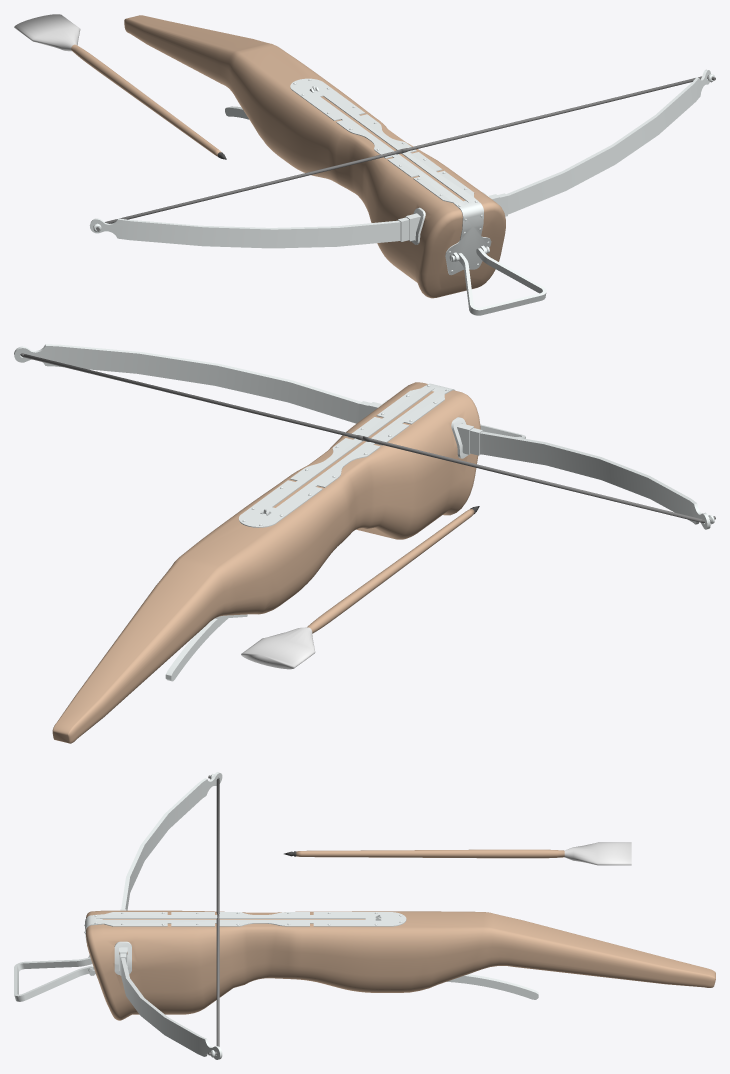
The model's file is kuss.fbx.
The picture shows the model from 3 angles, top to bottom: view 1: azimuth 30°, elevation 25°; view 2: azimuth 150°, elevation 25°; view 3: azimuth 270°, elevation 25°; orthographic projection. The views are drawn at different scales.
Parts seen in each view (by area): view 1: Compone158, Group13, Compone158.001, Compone158.002; view 2: Compone158, Group13, Compone158.001, Compone158.002; view 3: Compone158, Group13, Compone158.002, Compone158.001.
Part boxes in pixels (x1=…): Compone158: x1=89, y1=15, x2=715, y2=315; Group13: x1=14, y1=14, x2=226, y2=159; Compone158.001: x1=401, y1=76, x2=701, y2=153; Compone158.002: x1=105, y1=149, x2=401, y2=223; Compone158: x1=14, y1=344, x2=715, y2=743; Group13: x1=241, y1=506, x2=479, y2=669; Compone158.001: x1=23, y1=354, x2=363, y2=440; Compone158.002: x1=362, y1=436, x2=701, y2=522; Compone158: x1=14, y1=772, x2=715, y2=1059; Group13: x1=284, y1=842, x2=631, y2=865; Compone158.002: x1=216, y1=779, x2=219, y2=914; Compone158.001: x1=216, y1=914, x2=219, y2=1046.
Bounding box in the file's own units: 106 × 17.95 × 113.
